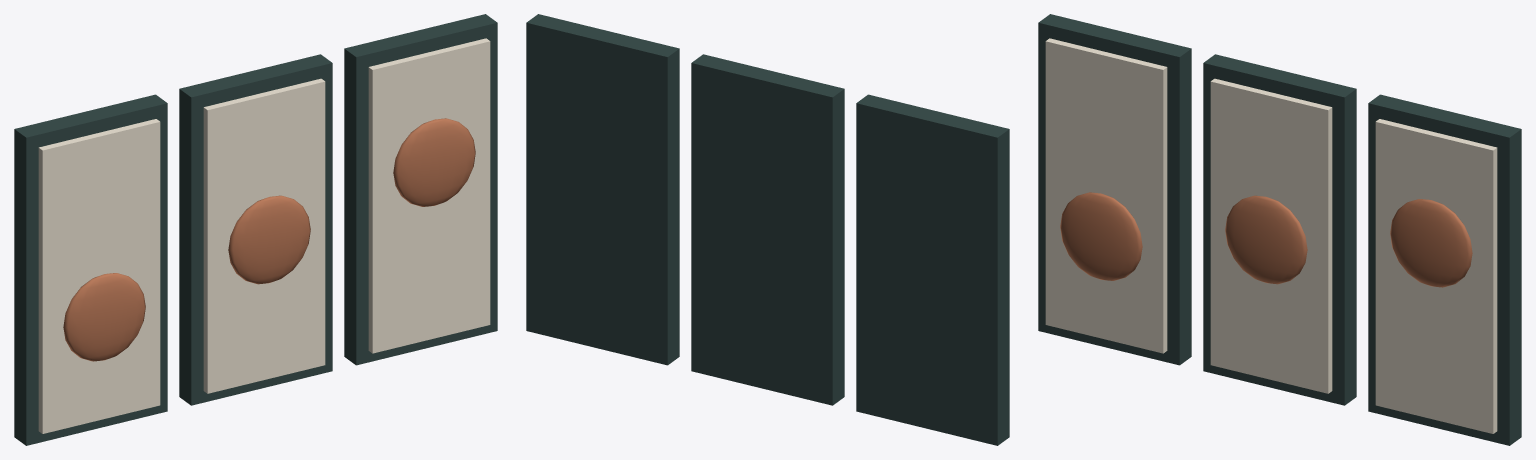
3 renders of one model, left to right at view 1: azimuth 30°, elevation 25°; view 2: azimuth 150°, elevation 25°; view 3: azimuth 330°, elevation 25°, orthographic.
Visible parts, largest first — view 1: canvas1, canvas2, canvas0, frame1, frame0, frame2, motif2, motif0, motif1; view 2: frame1, frame0, frame2; view 3: canvas1, canvas0, canvas2, frame1, frame2, frame0, motif0, motif2, motif1.
Boxes of the visible parts, x1,y1,x2,y2 form: canvas1: (203, 78, 325, 393); canvas2: (368, 38, 490, 353); canvas0: (38, 119, 160, 433); frame1: (179, 54, 332, 405); frame0: (14, 94, 167, 445); frame2: (344, 14, 497, 365); motif2: (393, 118, 475, 206); motif0: (63, 273, 145, 361); motif1: (228, 195, 310, 284); frame1: (691, 54, 844, 405); frame0: (856, 94, 1009, 445); frame2: (526, 14, 679, 365); canvas1: (1210, 78, 1332, 393); canvas0: (1045, 38, 1167, 353); canvas2: (1375, 119, 1497, 433); frame1: (1203, 54, 1356, 405); frame2: (1368, 94, 1521, 445); frame0: (1038, 14, 1191, 365); motif0: (1060, 192, 1142, 280); motif2: (1390, 199, 1472, 287); motif1: (1225, 195, 1307, 284).
Size of the model in its own units: 0.8 by 0.5 by 0.0715.
